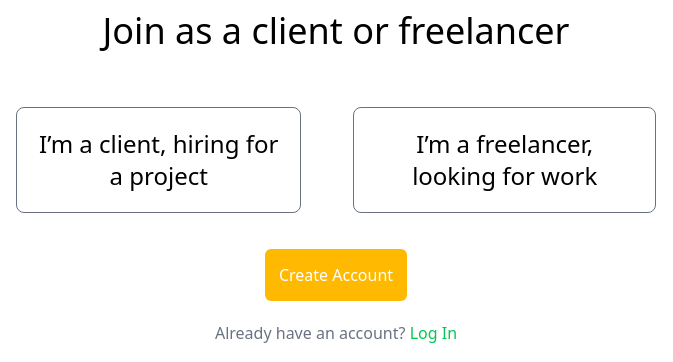
submit button is disabled until a role is selected
Expected: the button "Create Account" is disabled, top-left (265, 249), bottom-right (407, 301)
# Select 'client' role
Click the button "I’m a client, hiring for a project" at (159, 160), box top-left (16, 107), bottom-right (301, 213)
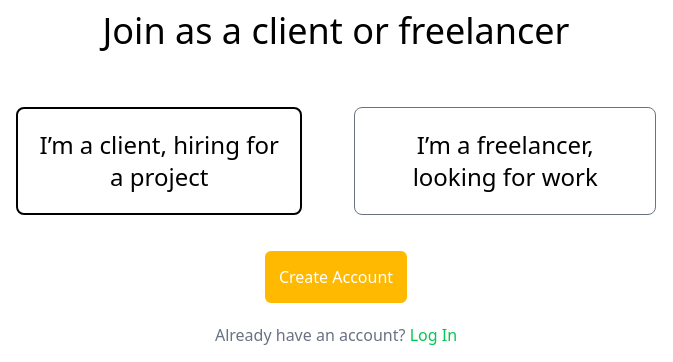
Expected: the button "Create Account" is enabled, top-left (265, 251), bottom-right (407, 303)
